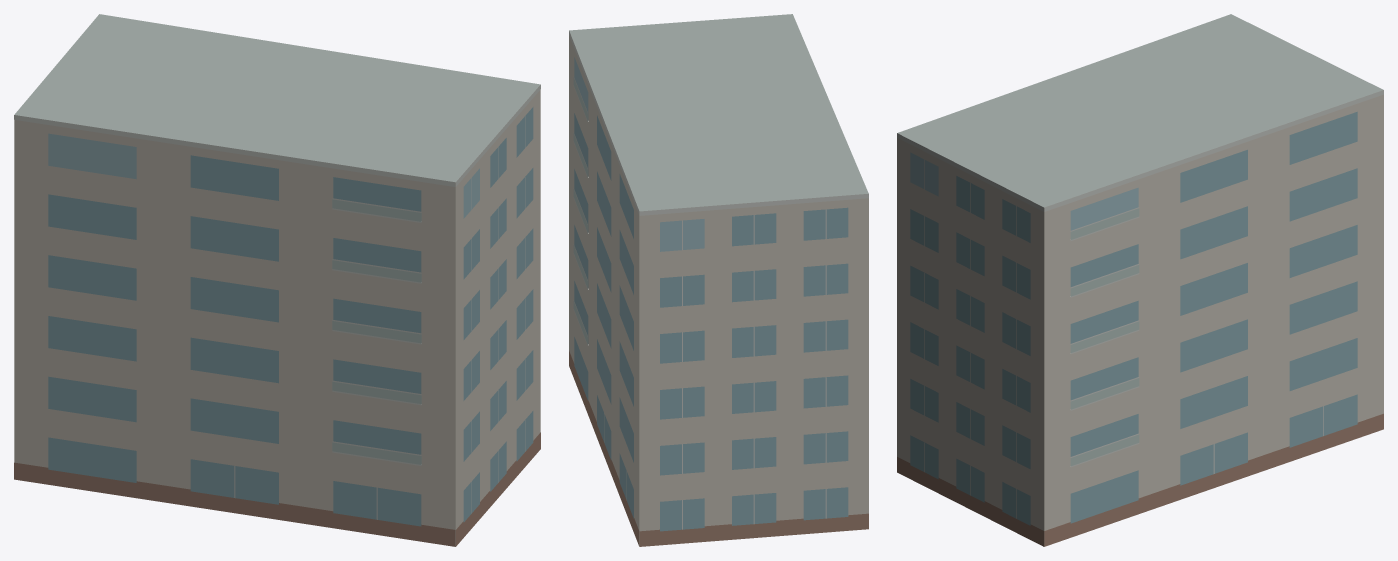
File: survey-upis-32745438.glb
The picture shows the model from 3 angles, left to right: view 1: azimuth 30°, elevation 25°; view 2: azimuth 150°, elevation 25°; view 3: azimuth 270°, elevation 25°; orthographic projection. The views are drawn at different scales.
Visible parts, largest first — view 1: survey-upis-32745438.tmp; view 2: survey-upis-32745438.tmp; view 3: survey-upis-32745438.tmp.
Part boxes in pixels (x1,y1,x2,y2): survey-upis-32745438.tmp: [14, 14, 540, 546]; survey-upis-32745438.tmp: [569, 14, 868, 546]; survey-upis-32745438.tmp: [897, 14, 1383, 546].
Bounding box in the file's own units: 22.39 × 18.3 × 23.8.
